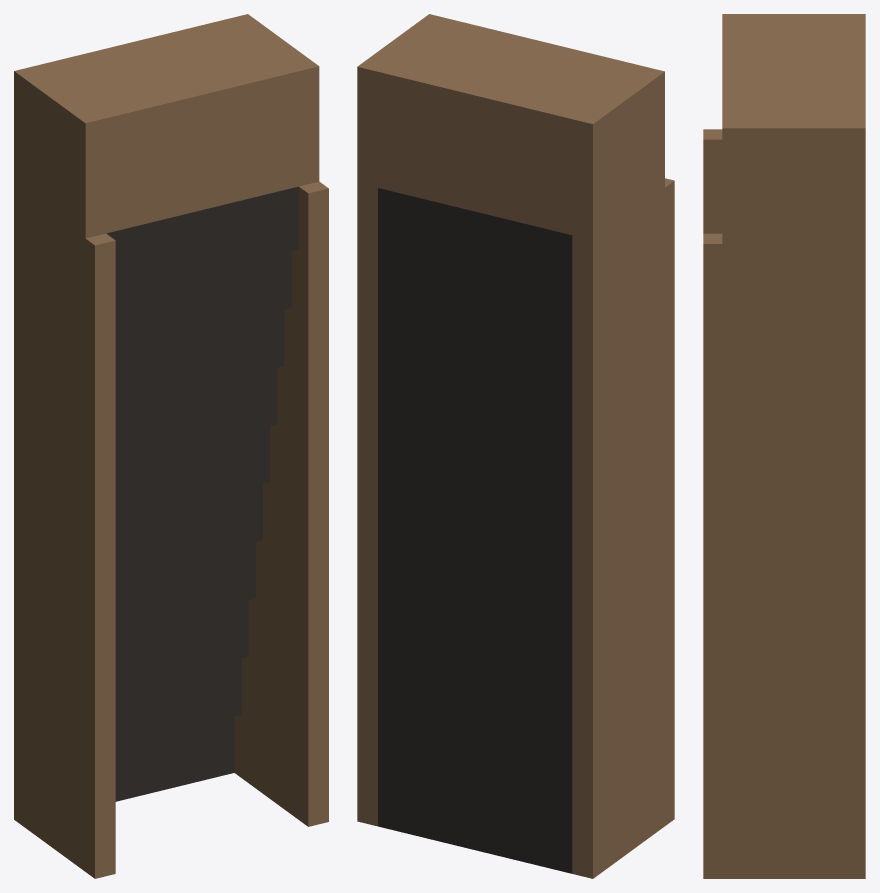
The model's file is SM_Ur_Grand_Stairs.obj.
3 renders of one model, left to right at view 1: azimuth 30°, elevation 25°; view 2: azimuth 150°, elevation 25°; view 3: azimuth 270°, elevation 25°, orthographic.
Visible parts, largest first — view 1: Mudbrick, DarkBasalt; view 2: Mudbrick, DarkBasalt; view 3: Mudbrick.
Part boxes in pixels (<box>): Mudbrick: <box>14,14,328,878</box>; DarkBasalt: <box>106,186,298,801</box>; Mudbrick: <box>357,14,674,878</box>; DarkBasalt: <box>378,188,572,873</box>; Mudbrick: <box>703,14,865,878</box>.
Bounding box in the file's own units: 850 × 2600 × 510.
